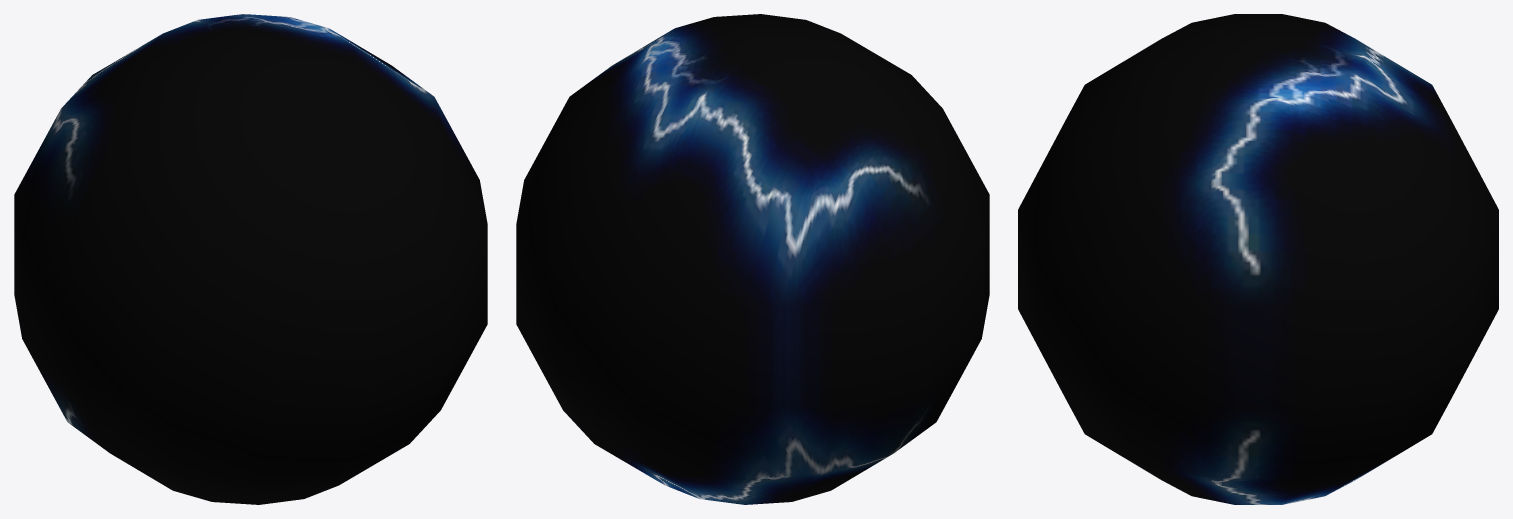
Rendered from Core.FBX.
The picture shows the model from 3 angles, left to right: view 1: azimuth 30°, elevation 25°; view 2: azimuth 150°, elevation 25°; view 3: azimuth 270°, elevation 25°; orthographic projection.
Visible parts, largest first — view 1: Core; view 2: Core; view 3: Core.
Boxes of the visible parts, left/top/right/bottom form: Core: left=14, top=14, right=487, bottom=504; Core: left=516, top=14, right=989, bottom=504; Core: left=1018, top=14, right=1498, bottom=504.
Size of the model in its own units: 161 by 170 by 165.
Materials: 1 (1 with a texture image).
